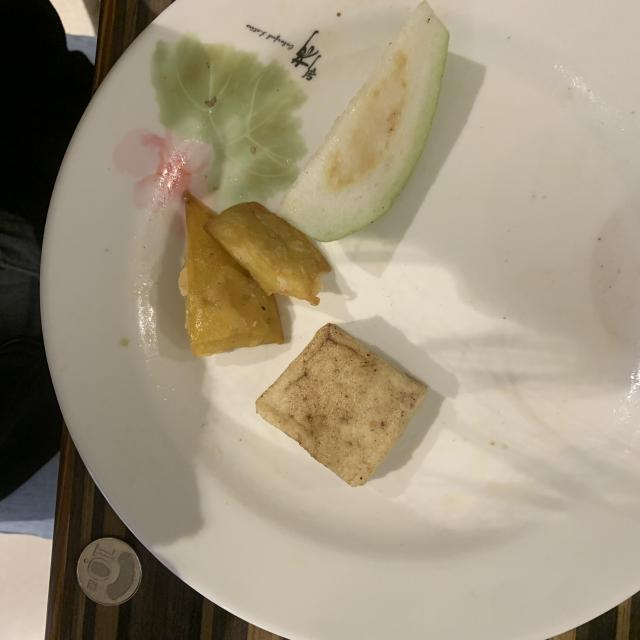coin: (78, 538, 141, 605)
creamy tofu -without sauce-: (256, 324, 428, 486)
guava -sliced-: (279, 1, 449, 241)
